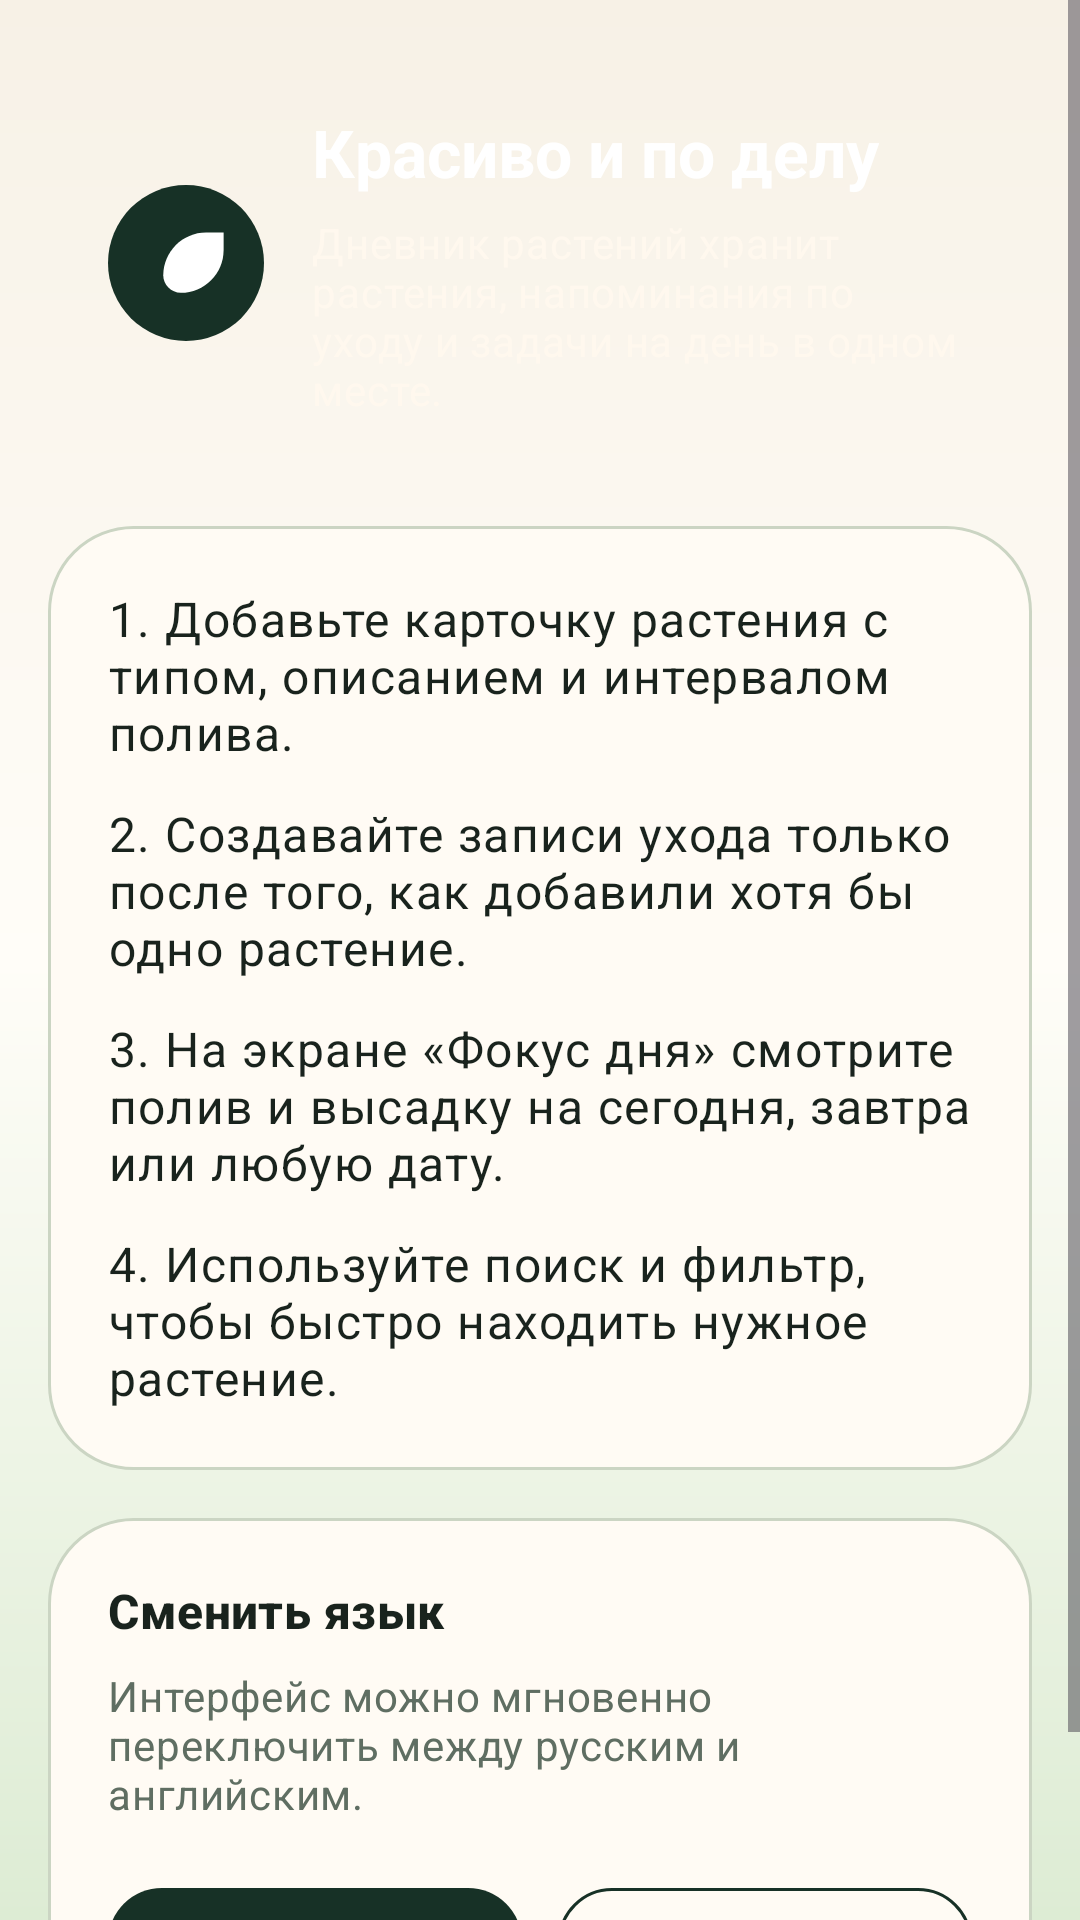

Where to tap for icons on this 1080*1920 app screen, as [x,y]:
plant leaf: [186,263]
